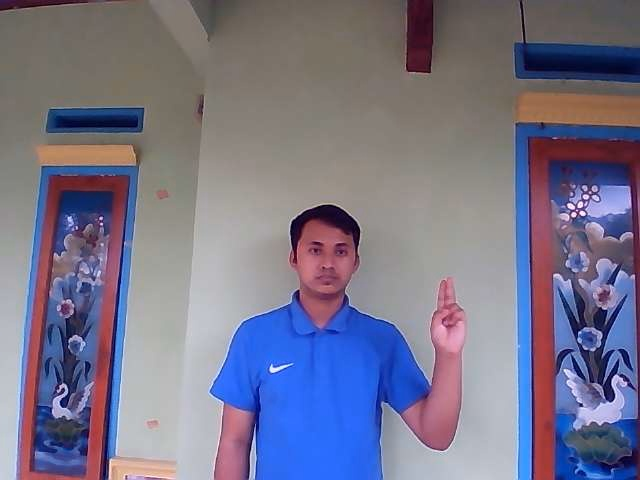U: (429, 275, 468, 354)
